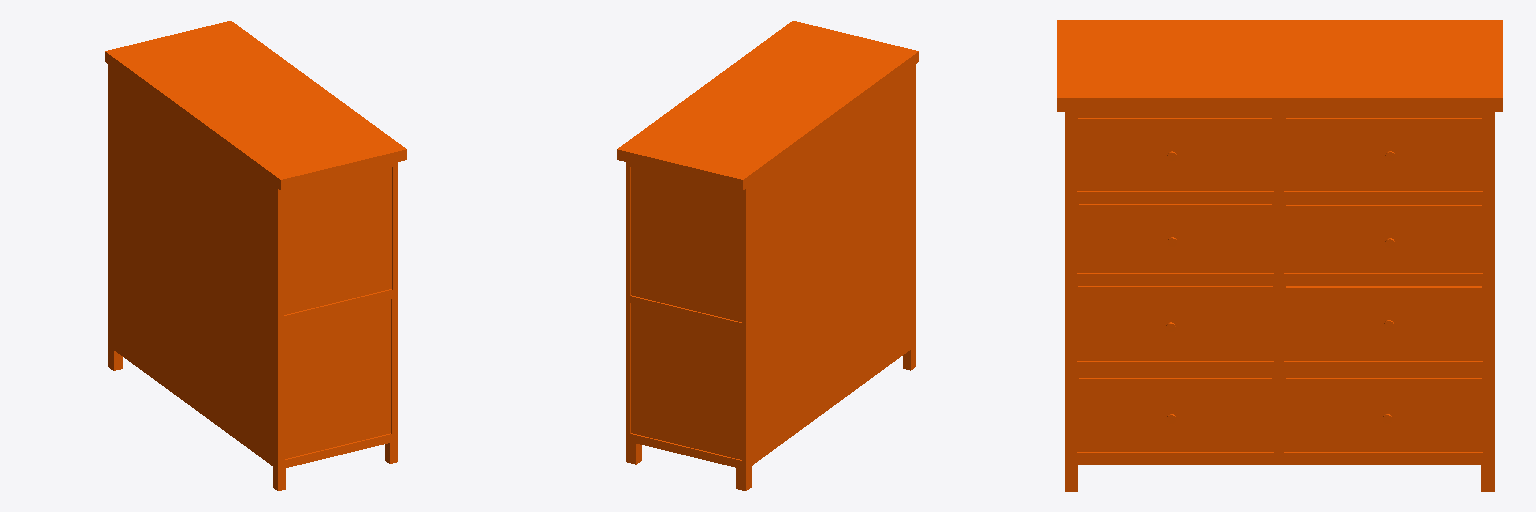
robot.urdf — Cabinet_957ca99bfb033d145f43af43c6209208:
<?xml version="1.0" ?>
<robot name="Cabinet_957ca99bfb033d145f43af43c6209208">
   <material name="obj_color">
      <color rgba="1.0 0.423529411765 0.0392156862745 1.0"/>
   </material>
   <link name="top">
      <inertial>
         <origin rpy="0.003649223891676307 0.003657071563170383 0.006221897769670831" xyz="-0.001077915760566717 0.0001347488931934528 -0.004899775022698185"/>
         <mass value="1.543651021782002"/>
         <inertia ixx="0.006221733188572379" ixy="-5.296557184682937e-08" ixz="-2.054488255975564e-05" iyy="0.003649225500129541" iyz="1.127273983966224e-07" izz="0.0036572345358156"/>
      </inertial>
      <visual>
         <origin rpy="0 0 0" xyz="0 0 0"/>
         <geometry>
            <mesh filename="top_watertight_tiny.stl" scale="1 1 1"/>
         </geometry>
         <material name="obj_color"/>
      </visual>
      <collision>
         <origin rpy="0 0 0" xyz="0 0 0"/>
         <geometry>
            <mesh filename="top_watertight_tiny.obj" scale="1 1 1"/>
         </geometry>
      </collision>
   </link>
   <link name="bottom">
      <inertial>
         <origin rpy="1.633333333199431e-08 1.633333333199431e-08 1.633333333362855e-08" xyz="0.3464080000000008 0.3464080000000008 0.3464080000000008"/>
         <mass value="0.0009800000000000017"/>
         <inertia ixx="1.633333333253906e-08" ixy="5.447480642029219e-19" ixz="5.447480642029219e-19" iyy="1.633333333253906e-08" iyz="5.447480642029219e-19" izz="1.633333333253906e-08"/>
      </inertial>
      <visual>
         <origin rpy="0 0 0" xyz="0 0 0"/>
         <geometry>
            <mesh filename="bottom_watertight_tiny.stl" scale="1 1 1"/>
         </geometry>
         <material name="obj_color"/>
      </visual>
   </link>
   <link name="world"/>
   <joint name="world_to_base" type="fixed">
      <origin xyz="0 0 0"/>
      <axis xyz="0 0 0"/>
      <parent link="world"/>
      <child link="bottom"/>
   </joint>
   <joint name="rotation" type="revolute">
      <origin xyz="0 0 0"/>
      <axis xyz="0 0 -1"/>
      <parent link="bottom"/>
      <child link="top"/>
      <dynamics damping="1.0" friction="1.0"/>
      <limit effort="0.1" velocity="0.1" lower="0" upper="0.001"/>
   </joint>
</robot>

--- What the picture shows (computed from the rendered views, not written in the file) ---
Views: 3 orthographic renders of the robot side by side, from view 1: azimuth 30°, elevation 25°; view 2: azimuth 150°, elevation 25°; view 3: azimuth 270°, elevation 25°.
Robot: Cabinet_957ca99bfb033d145f43af43c6209208 — 3 links, 2 joints (1 revolute, 1 fixed); root link world; default pose: all joints at 0.
Visible links, largest first — view 1: top; view 2: top; view 3: top.
Boxes of the visible links, x1,y1,x2,y2 form: top: (105,21,406,490); top: (617,21,918,490); top: (1057,20,1502,491).
Bounding box of the posed robot: 0.0655 × 0.1584 × 0.1557 m (x, y, z).
1 mesh visuals loaded from 2 distinct referenced files (1 binary STL); not drawn: 1 (reference not matched to a file when rendering).
